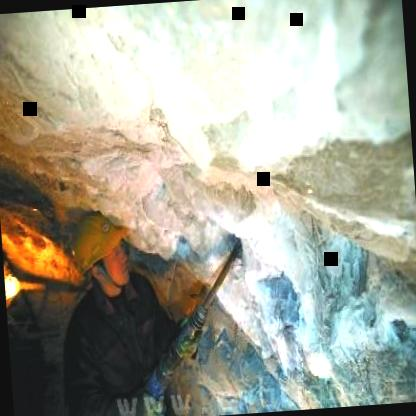helmet: (70, 214, 136, 302)
